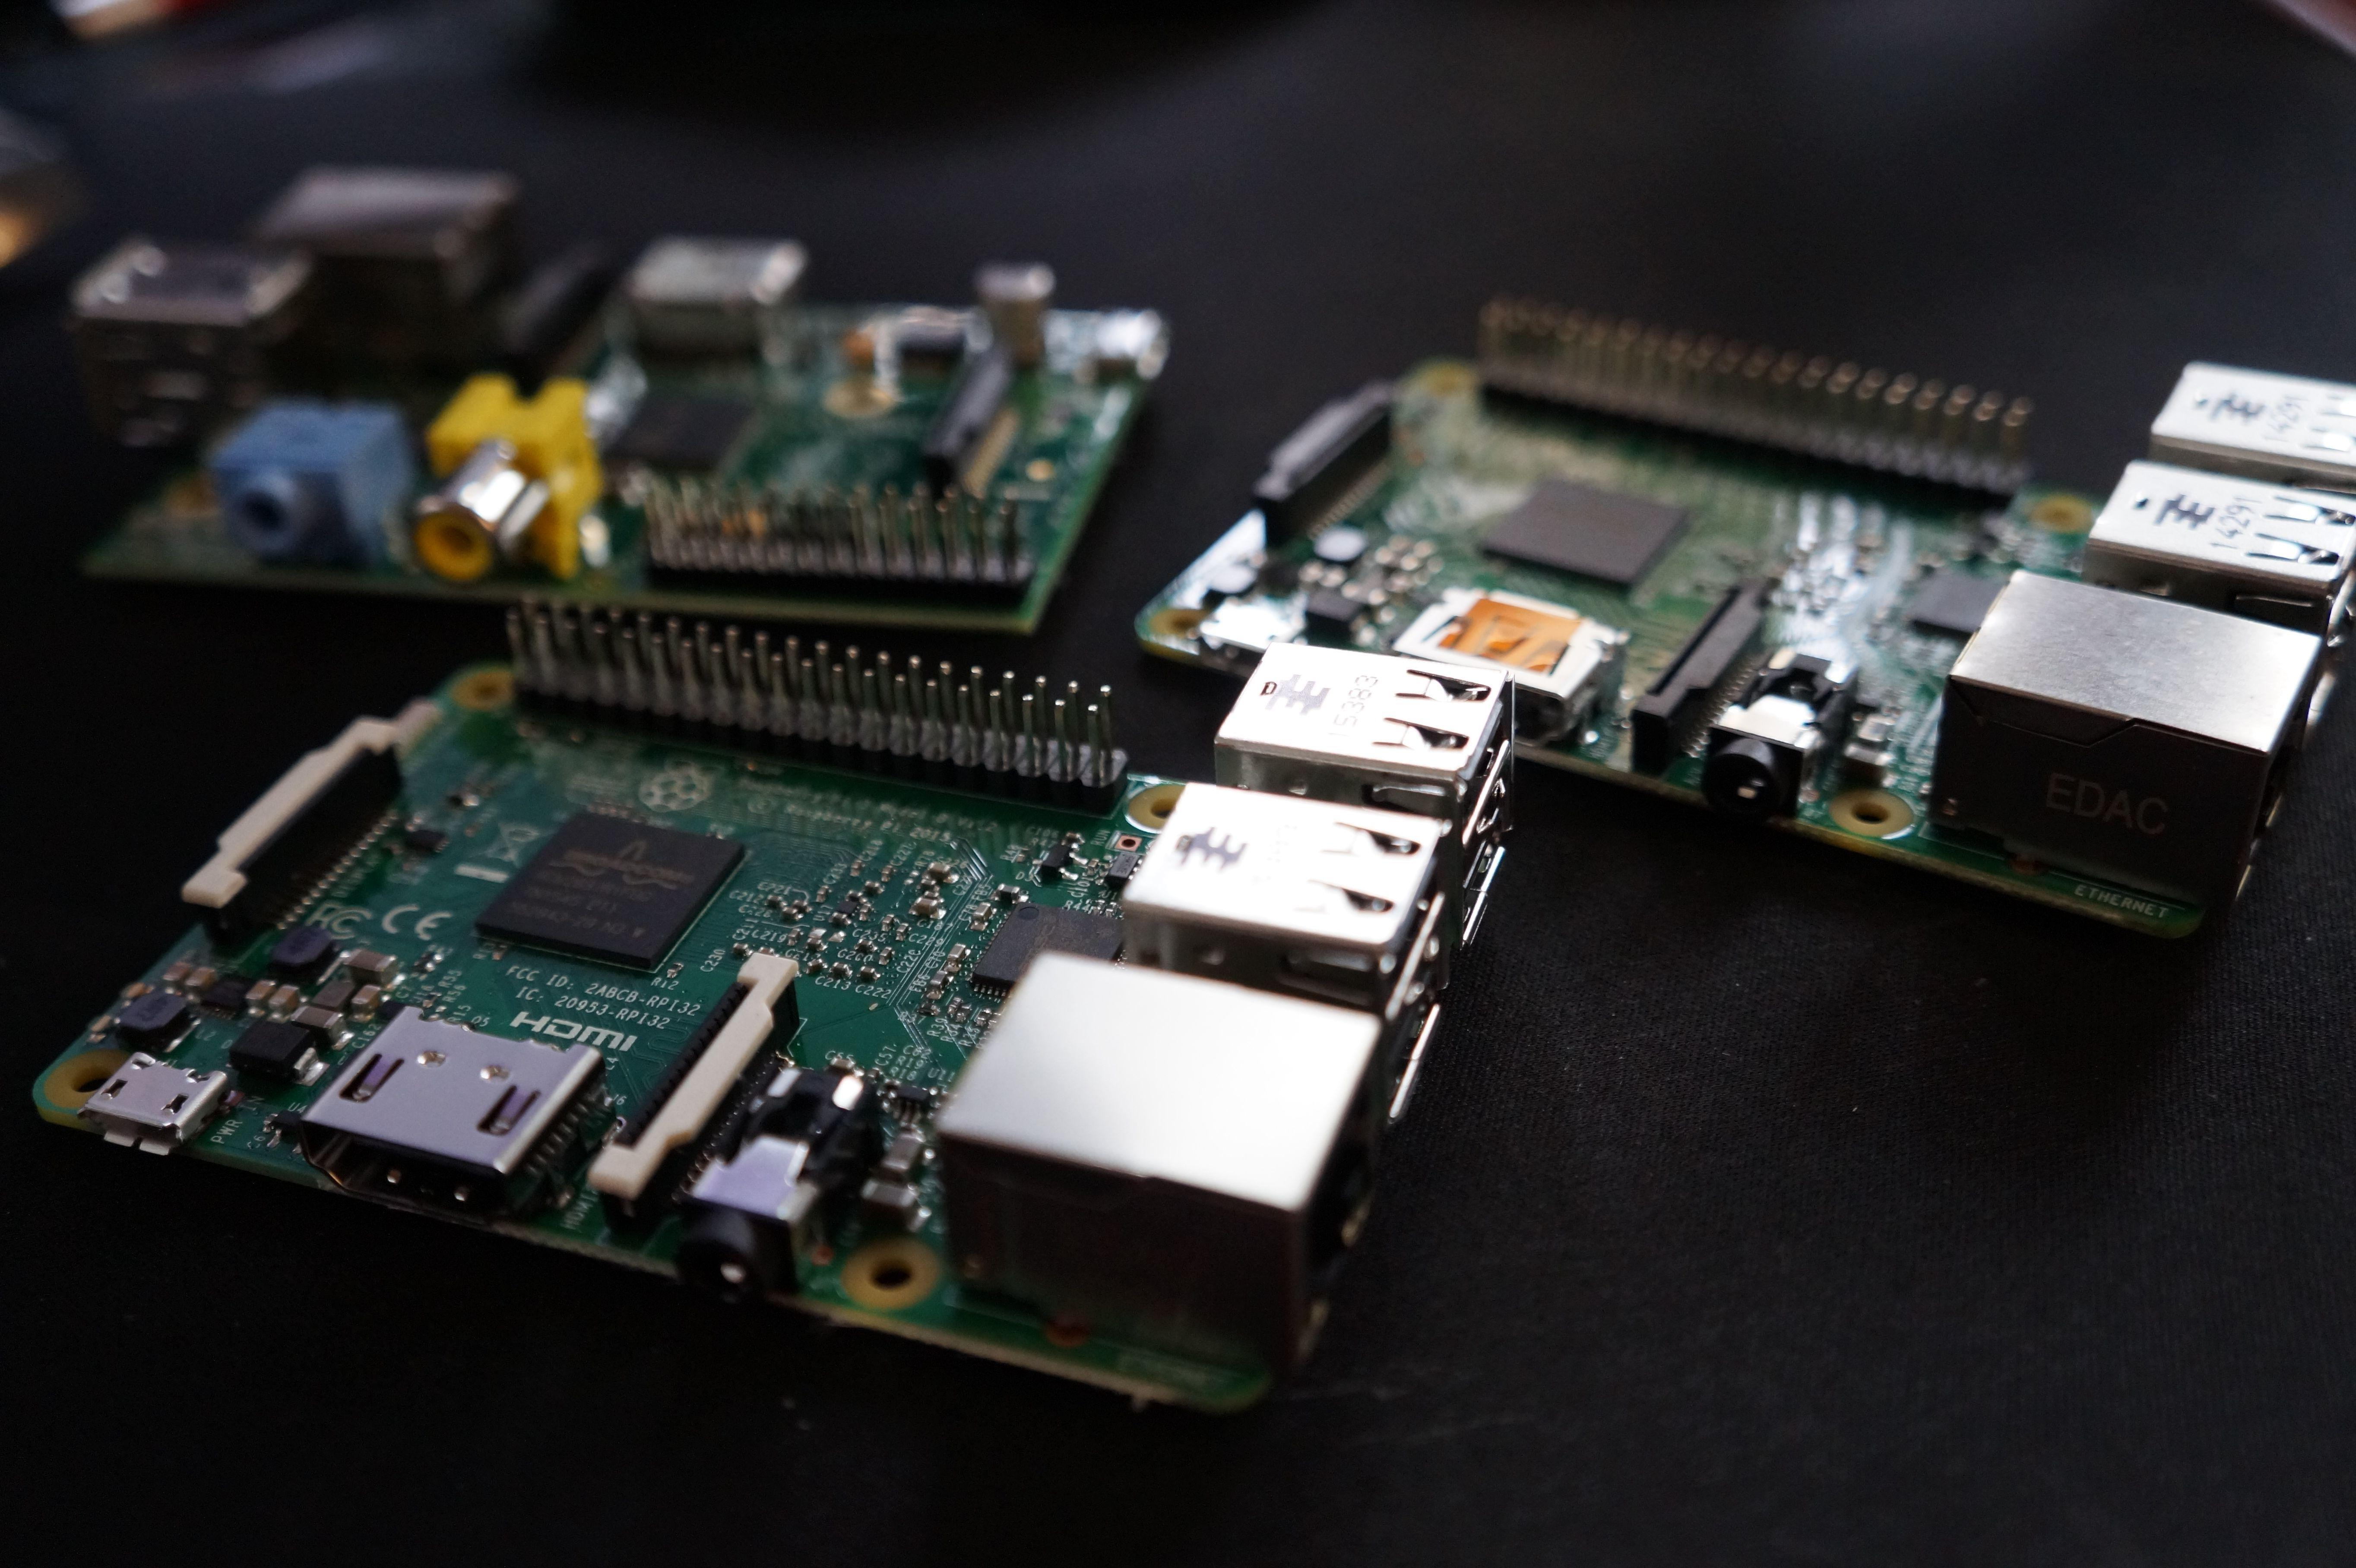audiojack: (679, 1064, 893, 1325), (1700, 651, 1871, 828)
bchi: (497, 828, 737, 973)
ethernet: (935, 955, 1411, 1344)
gpio: (499, 588, 1139, 798), (634, 478, 1038, 597)
usb: (1129, 775, 1449, 942), (1220, 646, 1523, 817)
